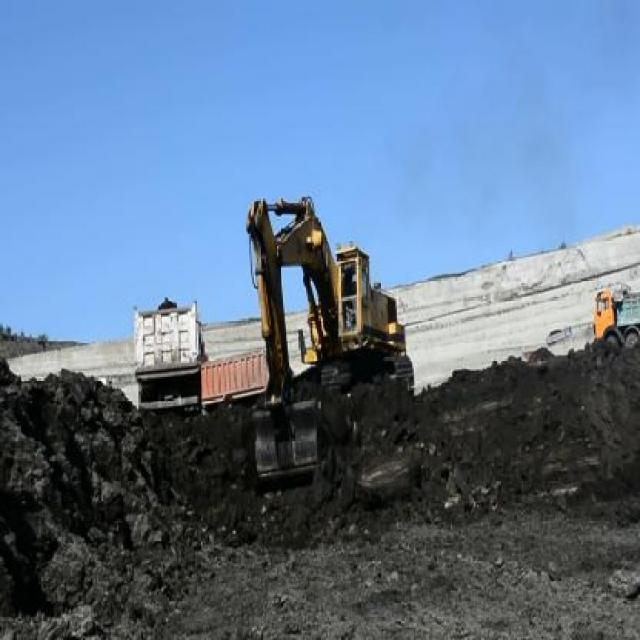Dump Truck: (129, 302, 203, 410), (592, 285, 639, 347)
Excavator: (248, 190, 415, 482)
